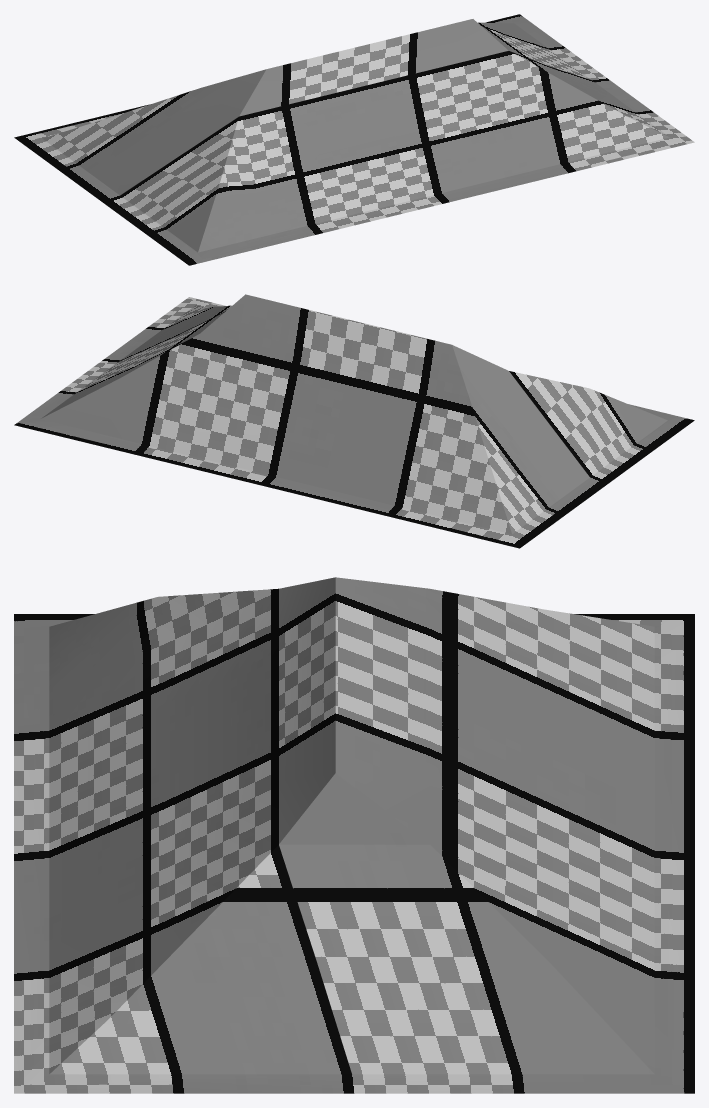
The model's file is roof_6498259.glb.
3 renders of one model, top to bottom at view 1: azimuth 30°, elevation 25°; view 2: azimuth 150°, elevation 25°; view 3: azimuth 270°, elevation 25°, orthographic. The views are drawn at different scales.
Parts seen in each view (by area): view 1: mesh; view 2: mesh; view 3: mesh.
Boxes of the visible parts, box(x1,y1,x2,y2) form: mesh: box(14, 14, 694, 265); mesh: box(14, 294, 694, 548); mesh: box(14, 577, 694, 1093).
Bounding box in the file's own units: 30 × 5.5 × 18.
Materials: 1 (1 with a texture image).
